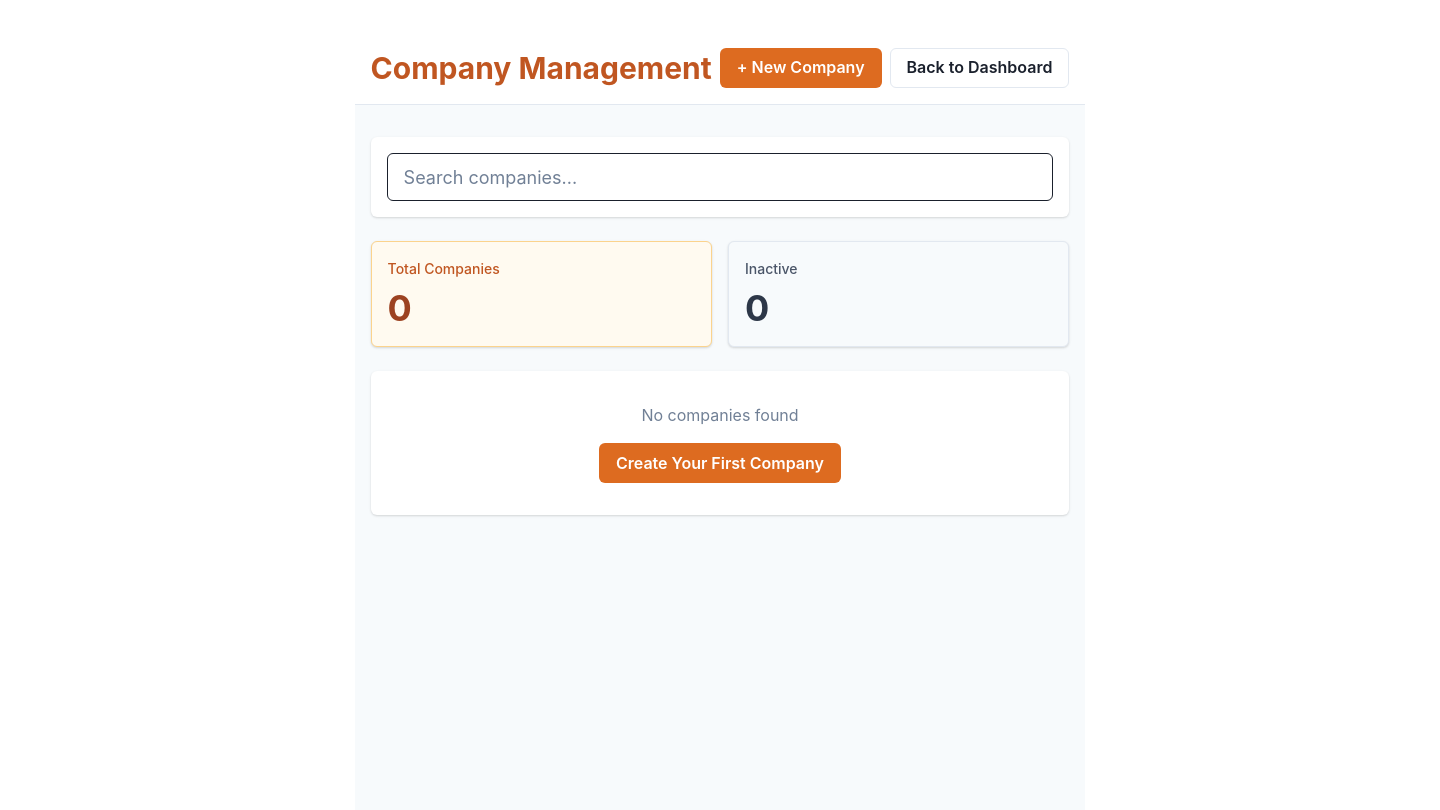
Test: Companies page › creates a company through the modal and shows a success toast
Expected: the text "No companies found" is shown, x1=641 y1=403 x2=799 y2=427
Click the button "+ New Company": (801, 68) x1=720 y1=48 x2=882 y2=88
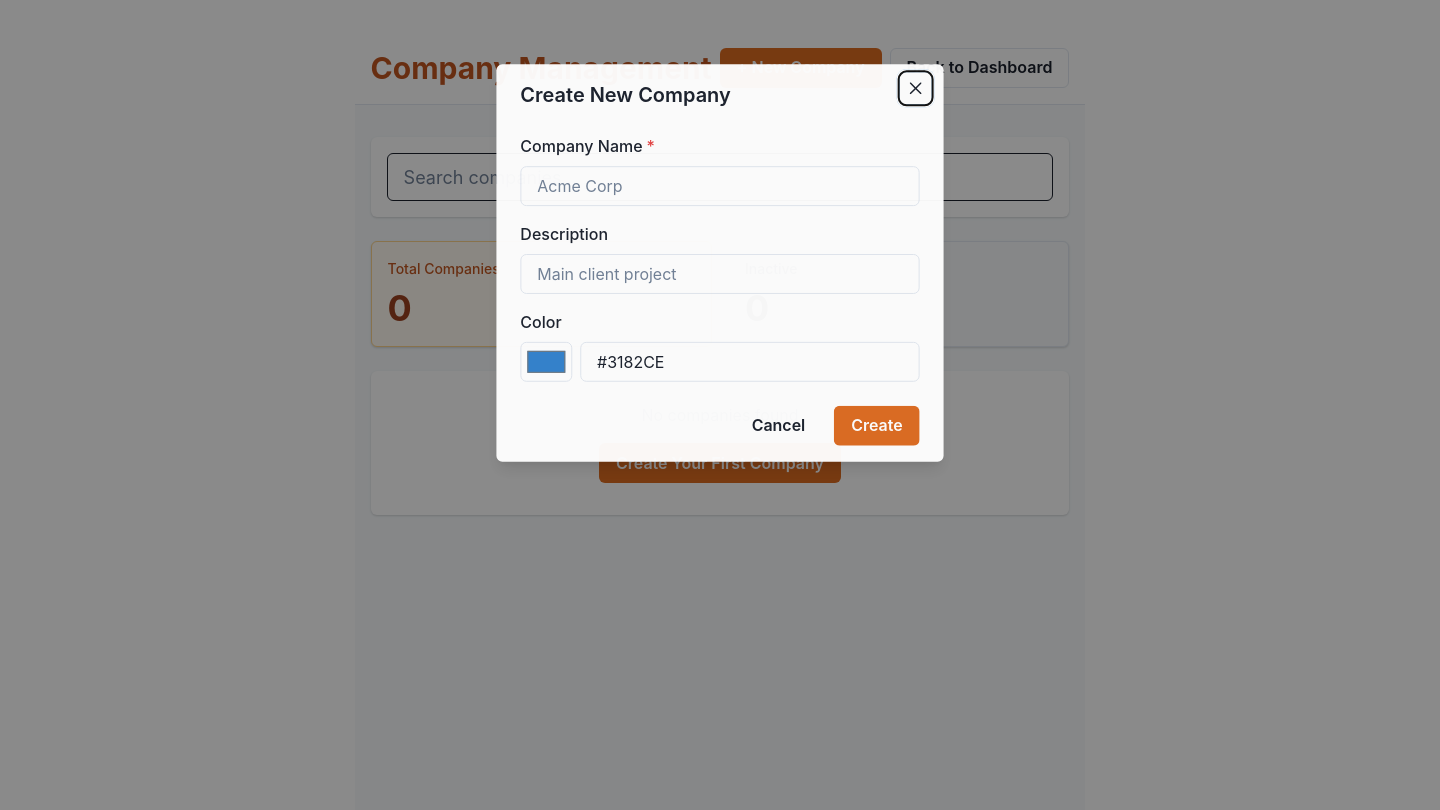
In the field with placeholder "Acme Corp": (720, 186) x1=520 y1=166 x2=920 y2=206, type "New Company Inc"
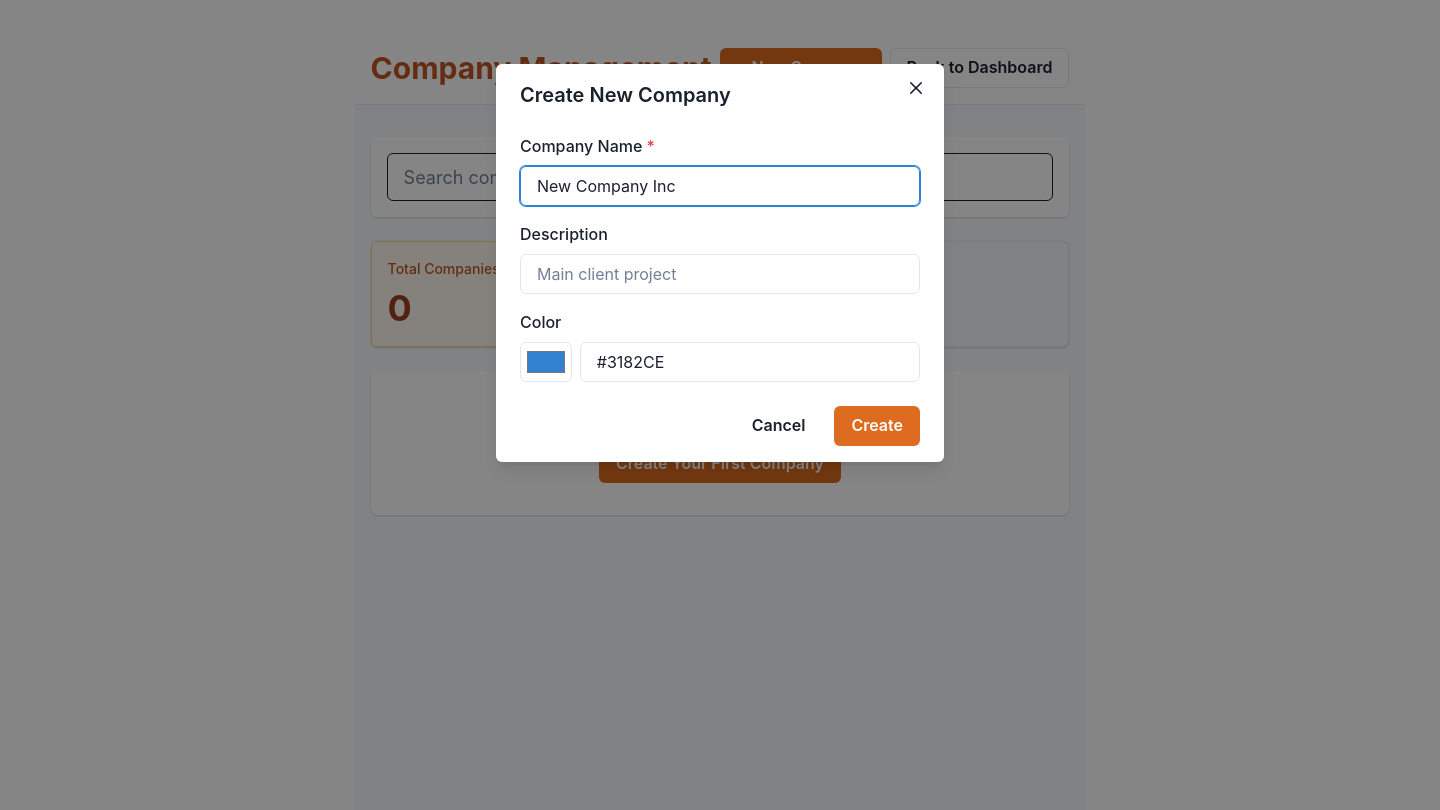
Click the button "Create": (877, 426) x1=834 y1=406 x2=920 y2=446
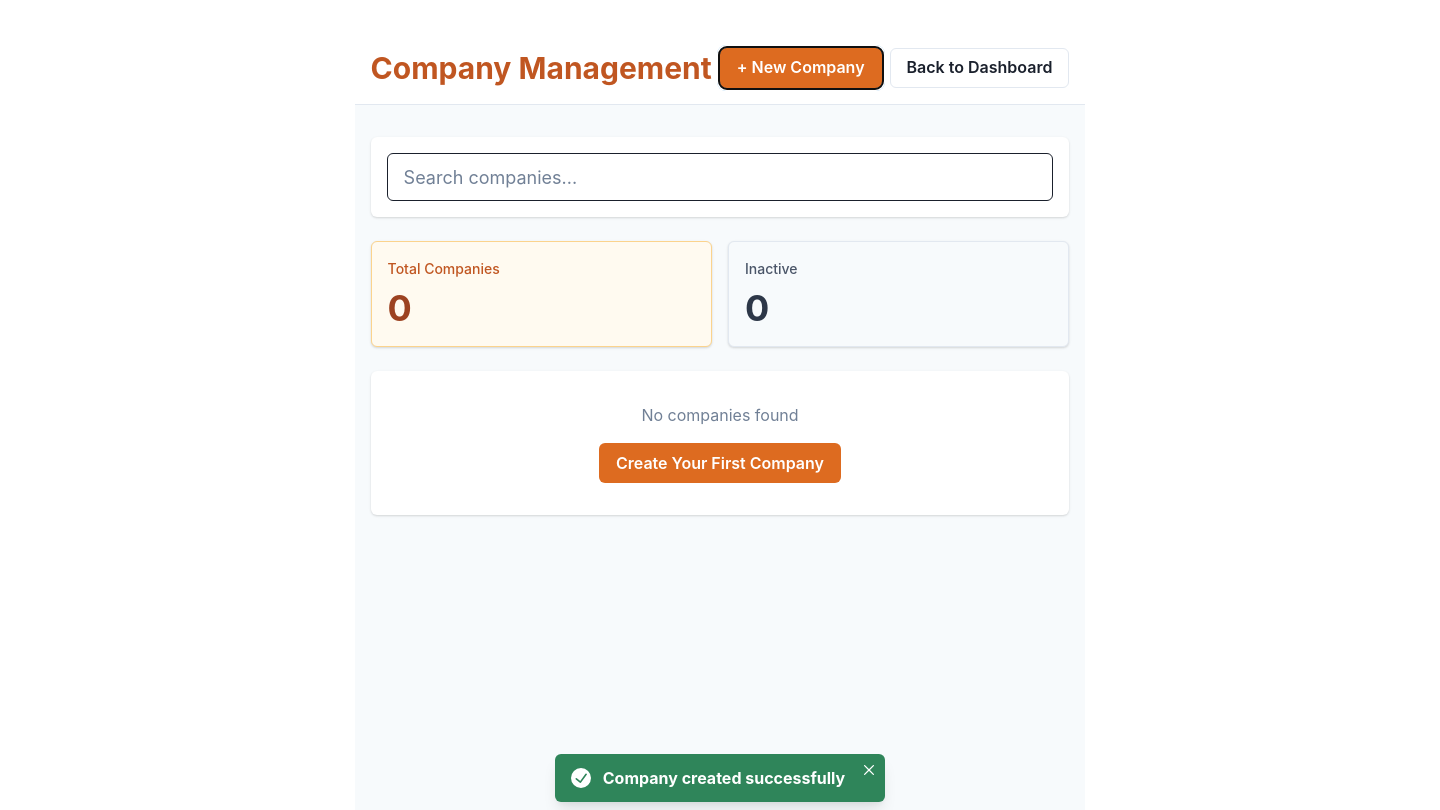
Expected: the text "Company created successfully" is shown, x1=603 y1=766 x2=845 y2=790
